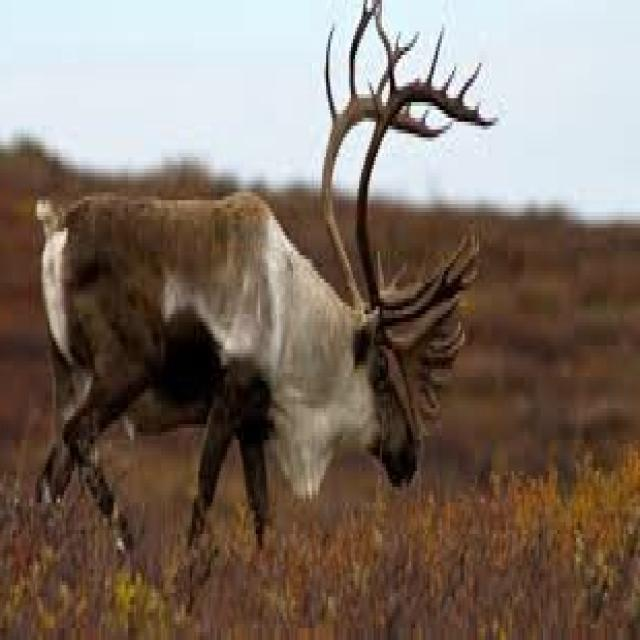reindeer: (37, 0, 493, 542)
